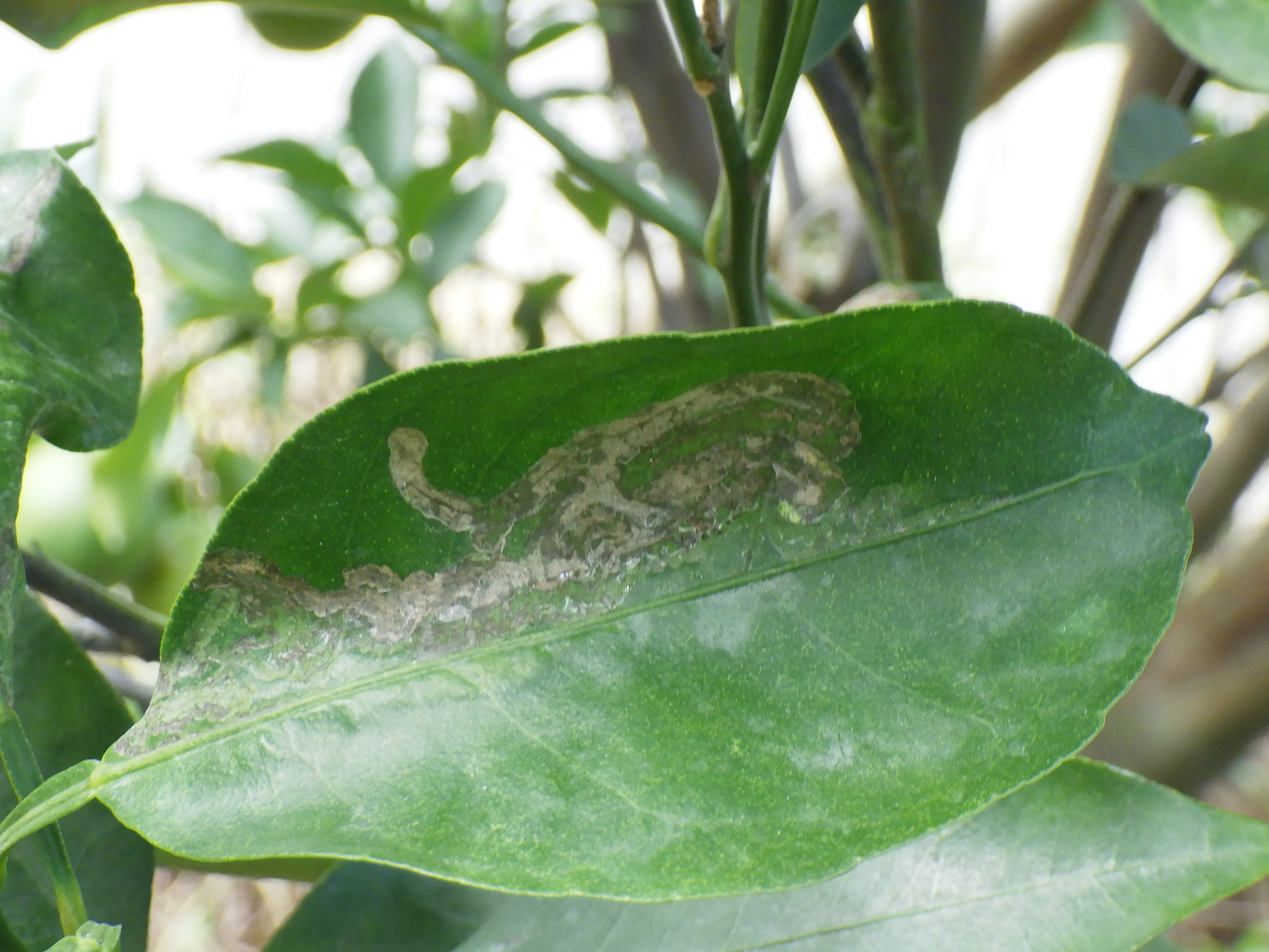Citrus_Leaf_Miner: (125, 371, 859, 751)
